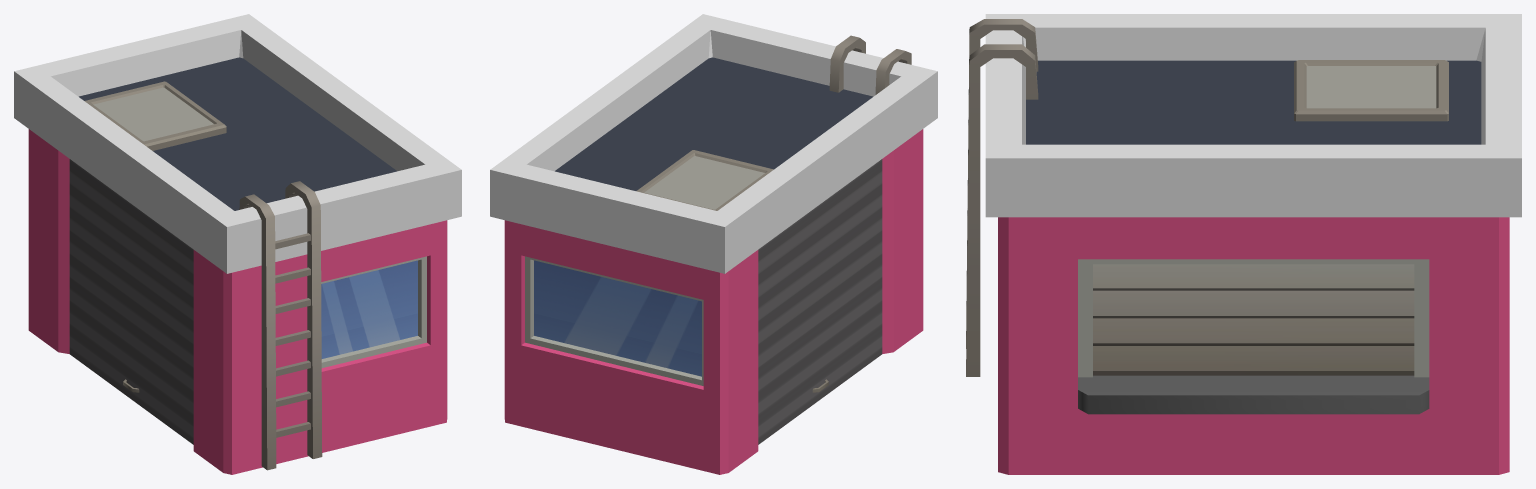
File: Kiosk_1_B.fbx
3 renders of one model, left to right at view 1: azimuth 30°, elevation 25°; view 2: azimuth 150°, elevation 25°; view 3: azimuth 270°, elevation 25°, orthographic. The views are drawn at different scales.
Visible parts, largest first — view 1: Kiosk_1_B; view 2: Kiosk_1_B; view 3: Kiosk_1_B.
Boxes of the visible parts, bbox=[...] form: Kiosk_1_B: bbox=[14, 14, 461, 474]; Kiosk_1_B: bbox=[490, 14, 937, 474]; Kiosk_1_B: bbox=[966, 14, 1521, 474].
Size of the model in its own units: 297 by 304 by 454.
